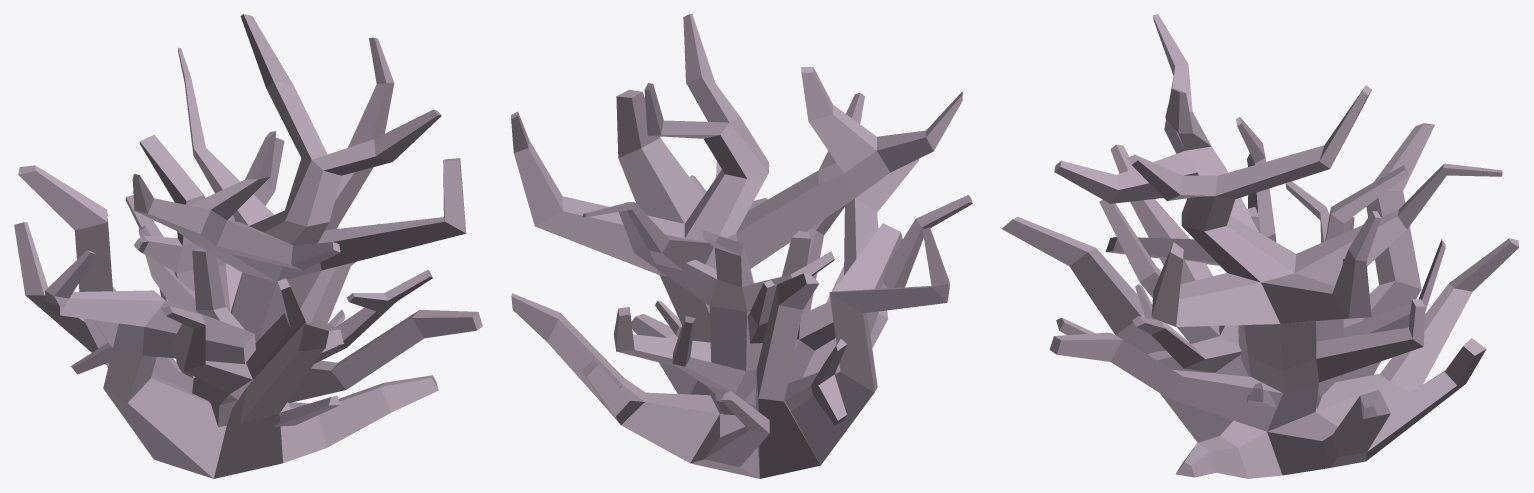
Rendered from roots_big2.fbx.
The picture shows the model from 3 angles, left to right: view 1: azimuth 30°, elevation 25°; view 2: azimuth 150°, elevation 25°; view 3: azimuth 270°, elevation 25°; orthographic projection. The views are drawn at different scales.
Visible parts, largest first — view 1: Cube, Cube.001; view 2: Cube, Cube.001; view 3: Cube, Cube.001.
Boxes of the visible parts, bbox=[...] form: Cube: bbox=[14, 14, 482, 478]; Cube.001: bbox=[71, 134, 432, 426]; Cube: bbox=[511, 14, 962, 478]; Cube.001: bbox=[619, 175, 972, 425]; Cube: bbox=[1002, 14, 1519, 478]; Cube.001: bbox=[1056, 144, 1445, 408].
Bounding box in the file's own units: 424 × 398 × 474.
